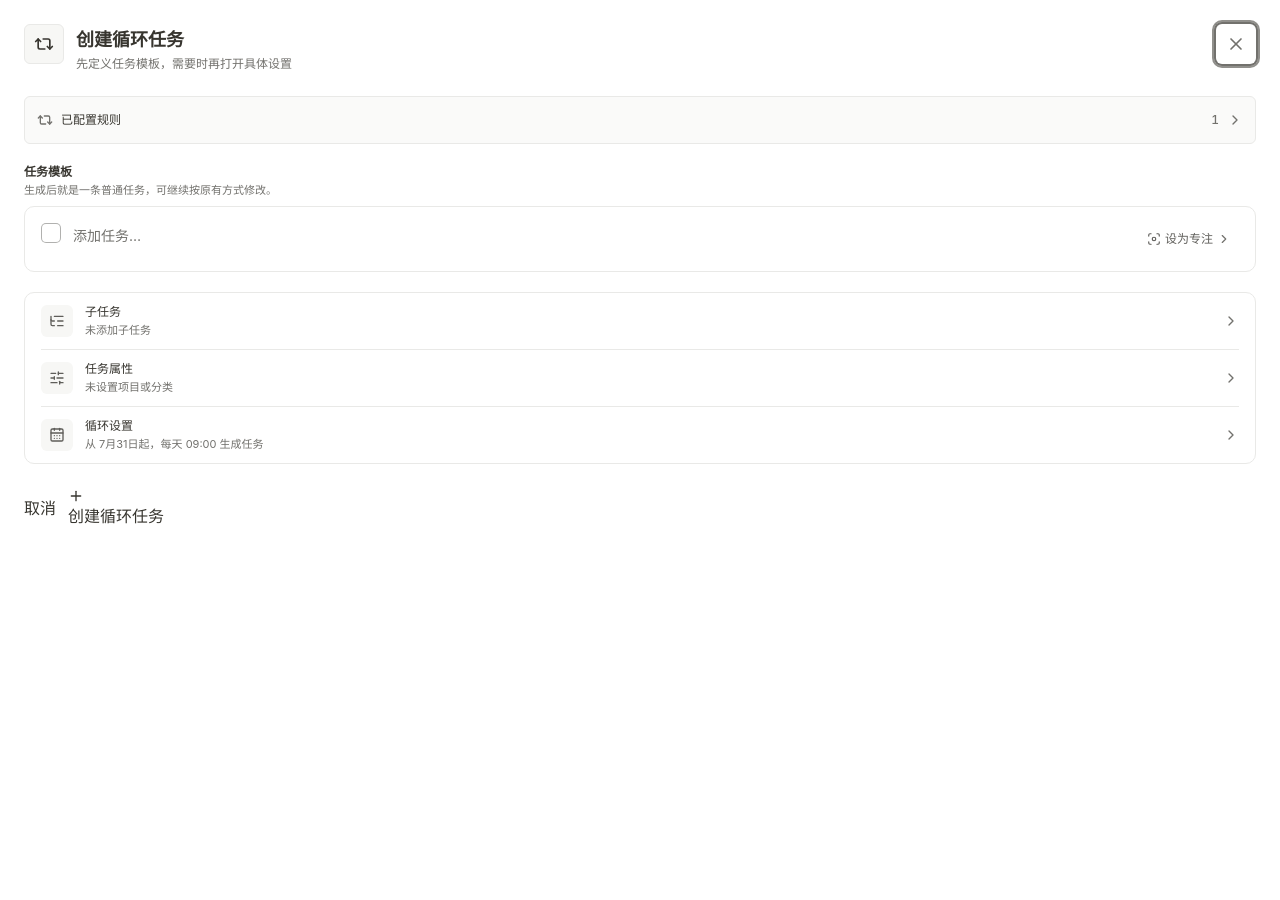
it: AddRecurringTaskModal › loads the original monthly-summary cadence into the shared editor
The width and height of the screenshot is (1280, 900).
Click the button with aria-label "管理已配置规则" at (91, 120), box [24,96,1256,144]
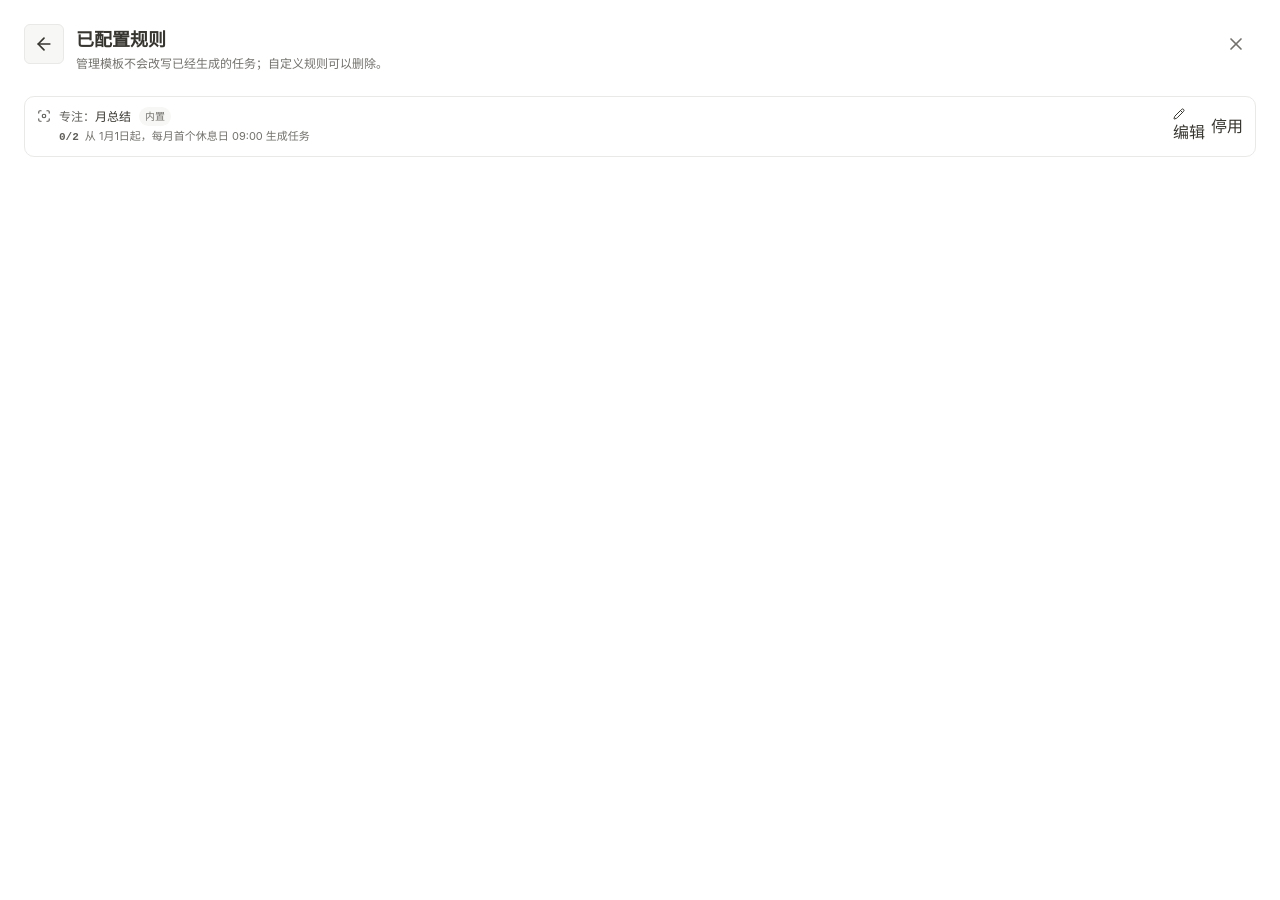
Click the button with aria-label "编辑循环规则：月总结" at (1189, 126), box [1173,108,1205,144]
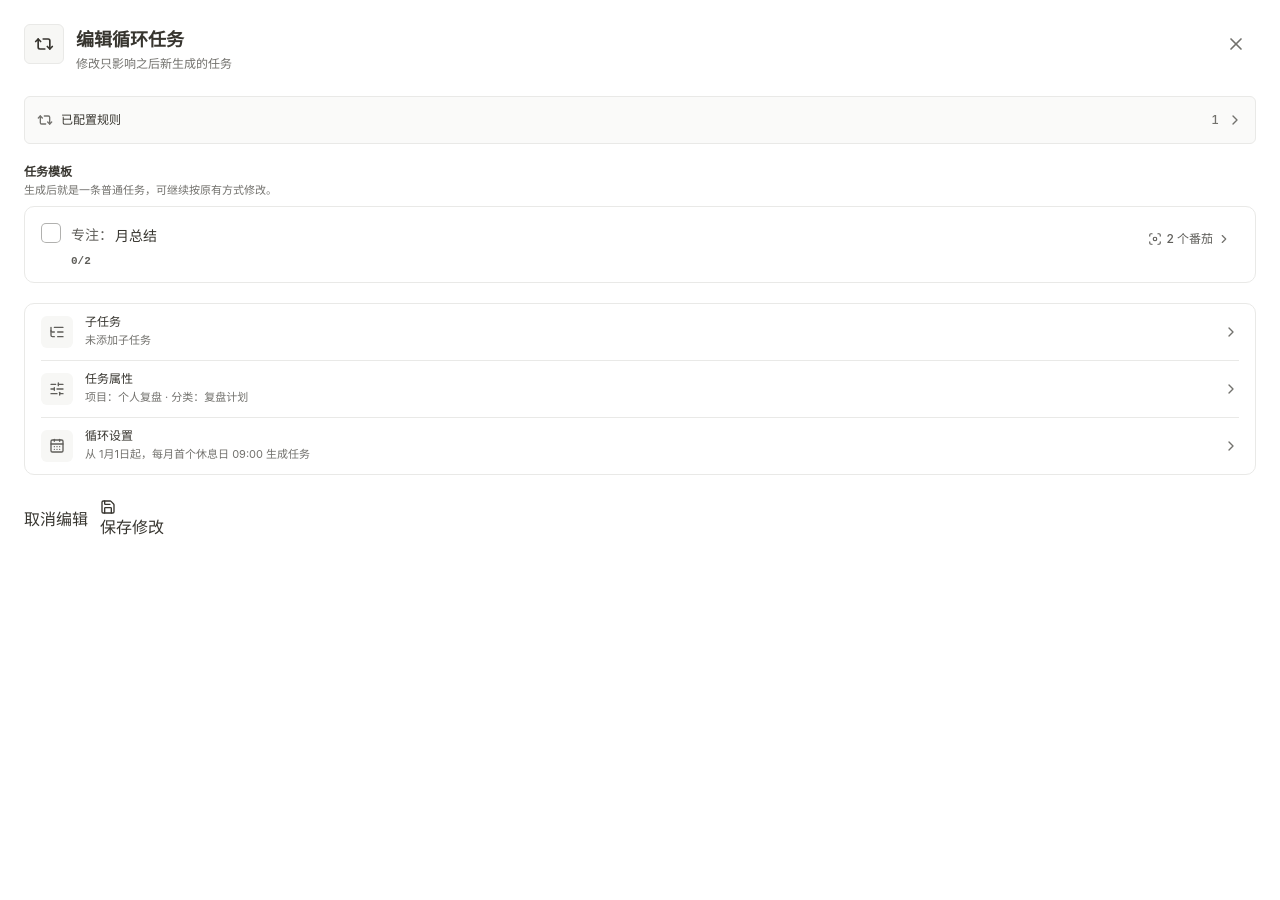
Click the button with aria-label "编辑循环设置" at (57, 446), box [25,418,1255,474]
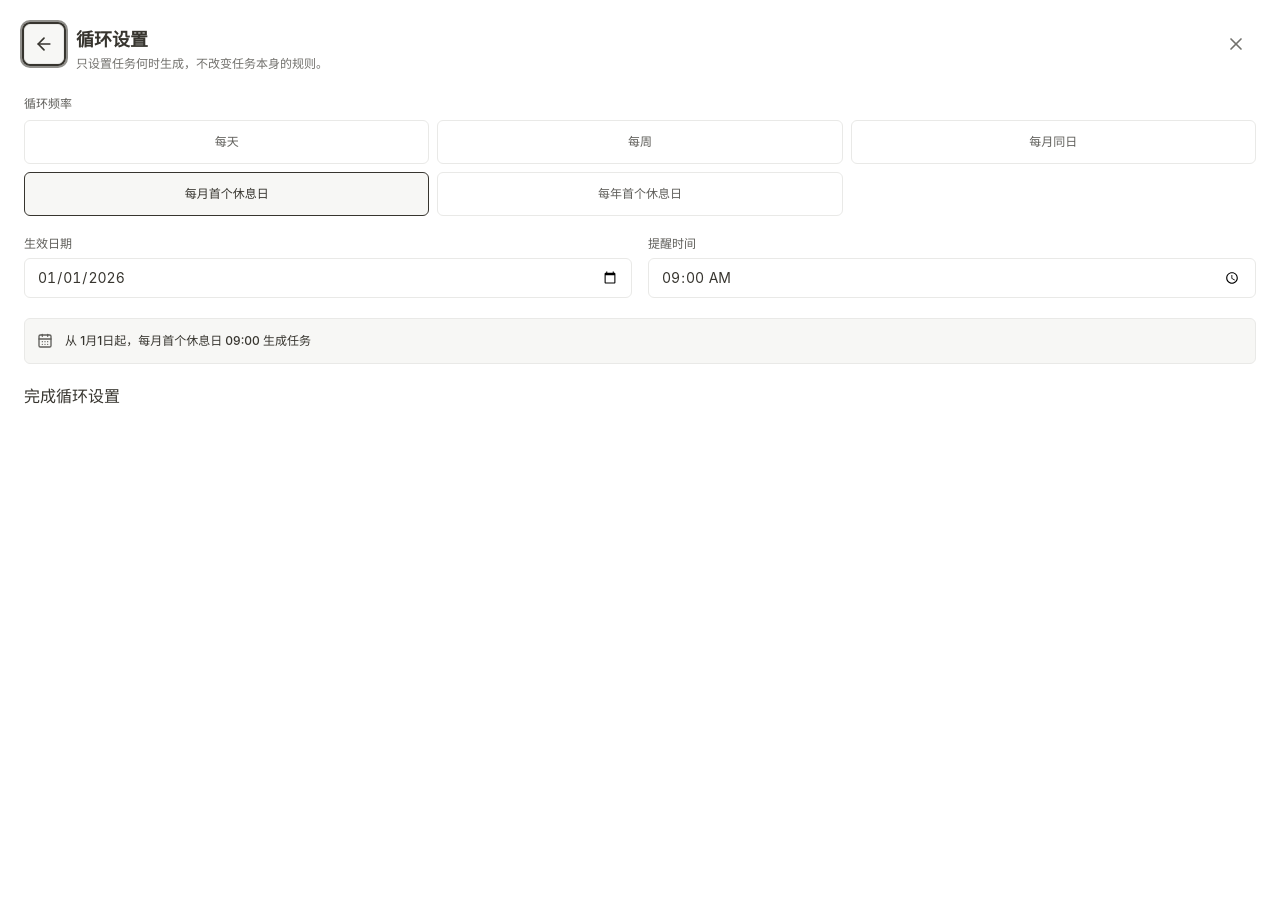
Now the date field labelled "生效日期" holds "2026-01-01", box [24,258,632,298]
